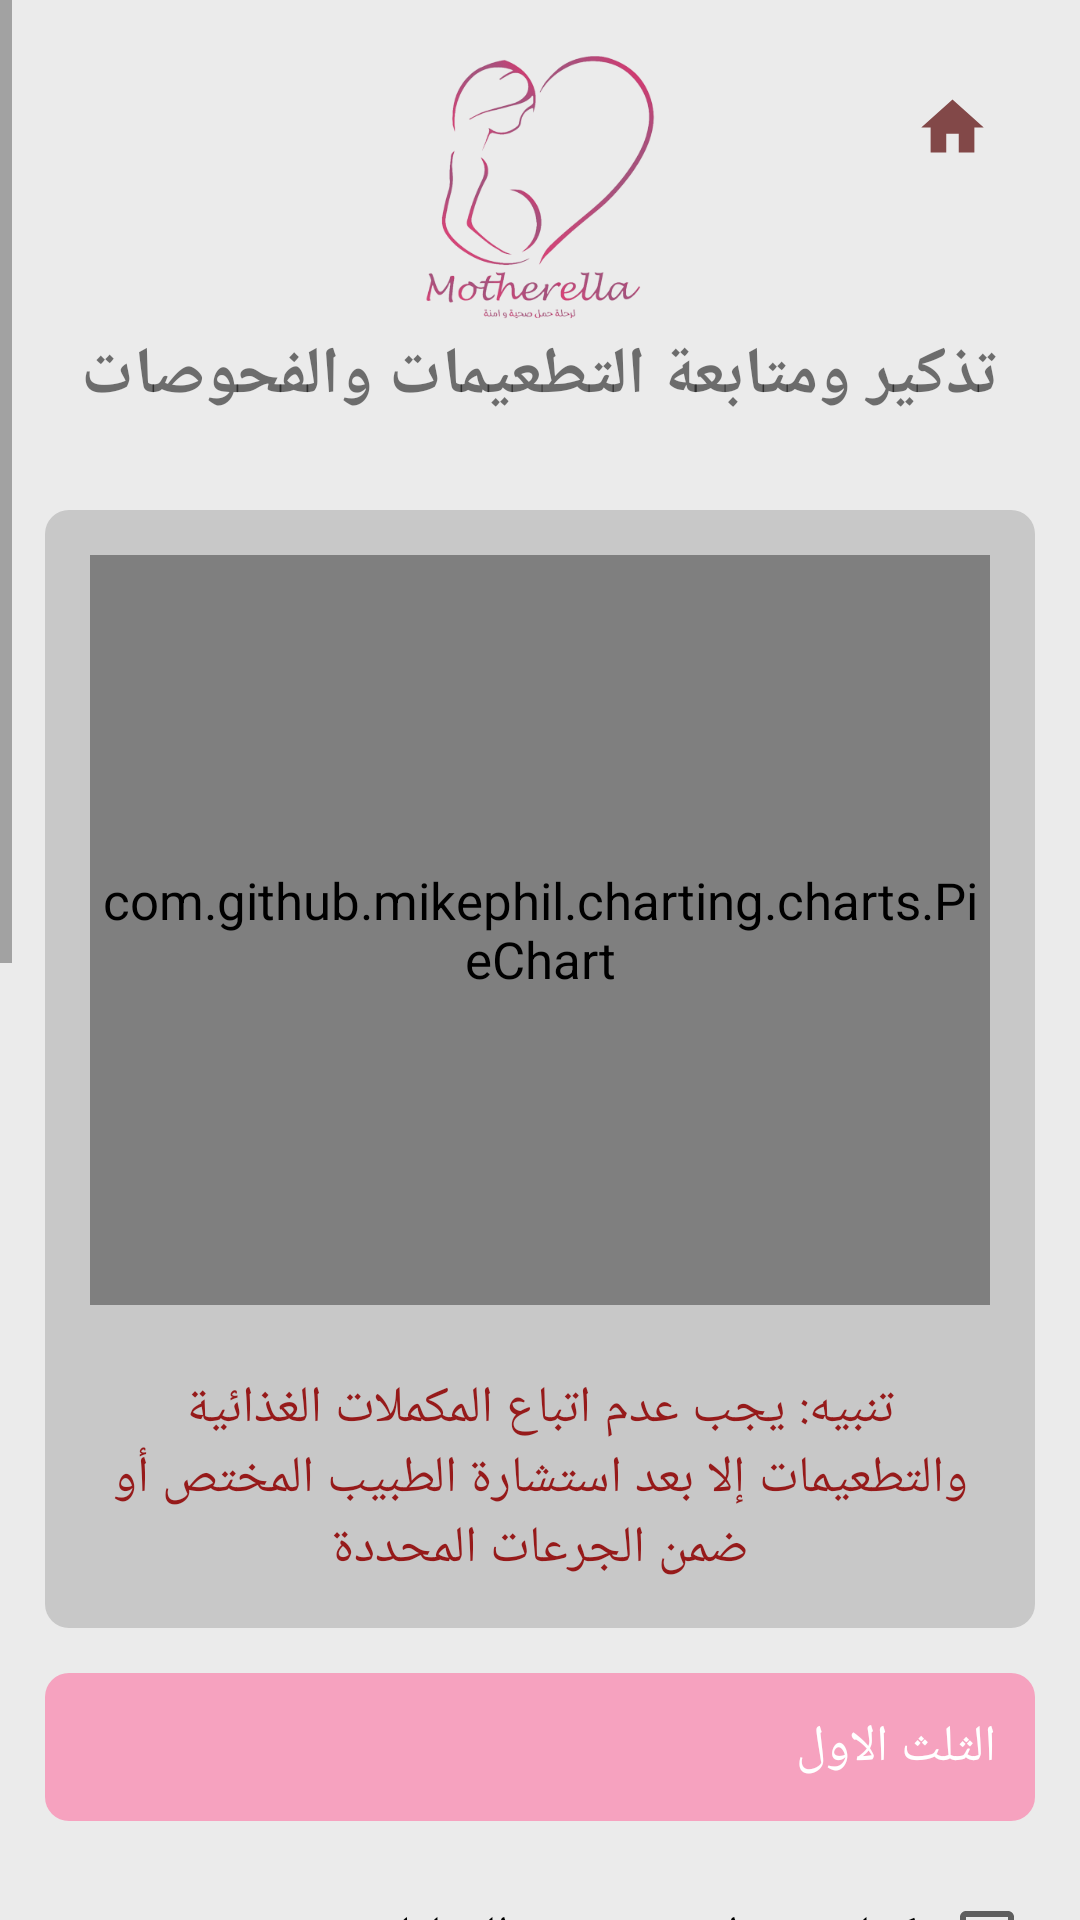

Locate icon controls on the screen. Image size 1080×1920, boxes as [x1,y1,x2,y2].
home: [921,99,984,153]
